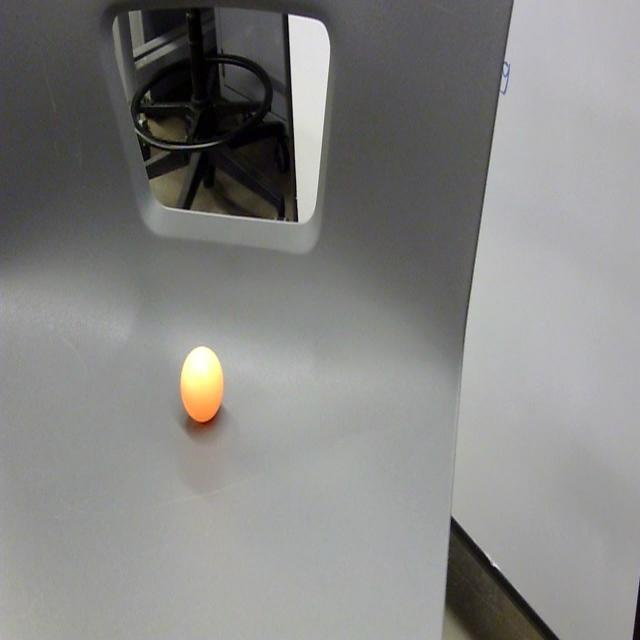ball: (178, 340, 225, 430)
